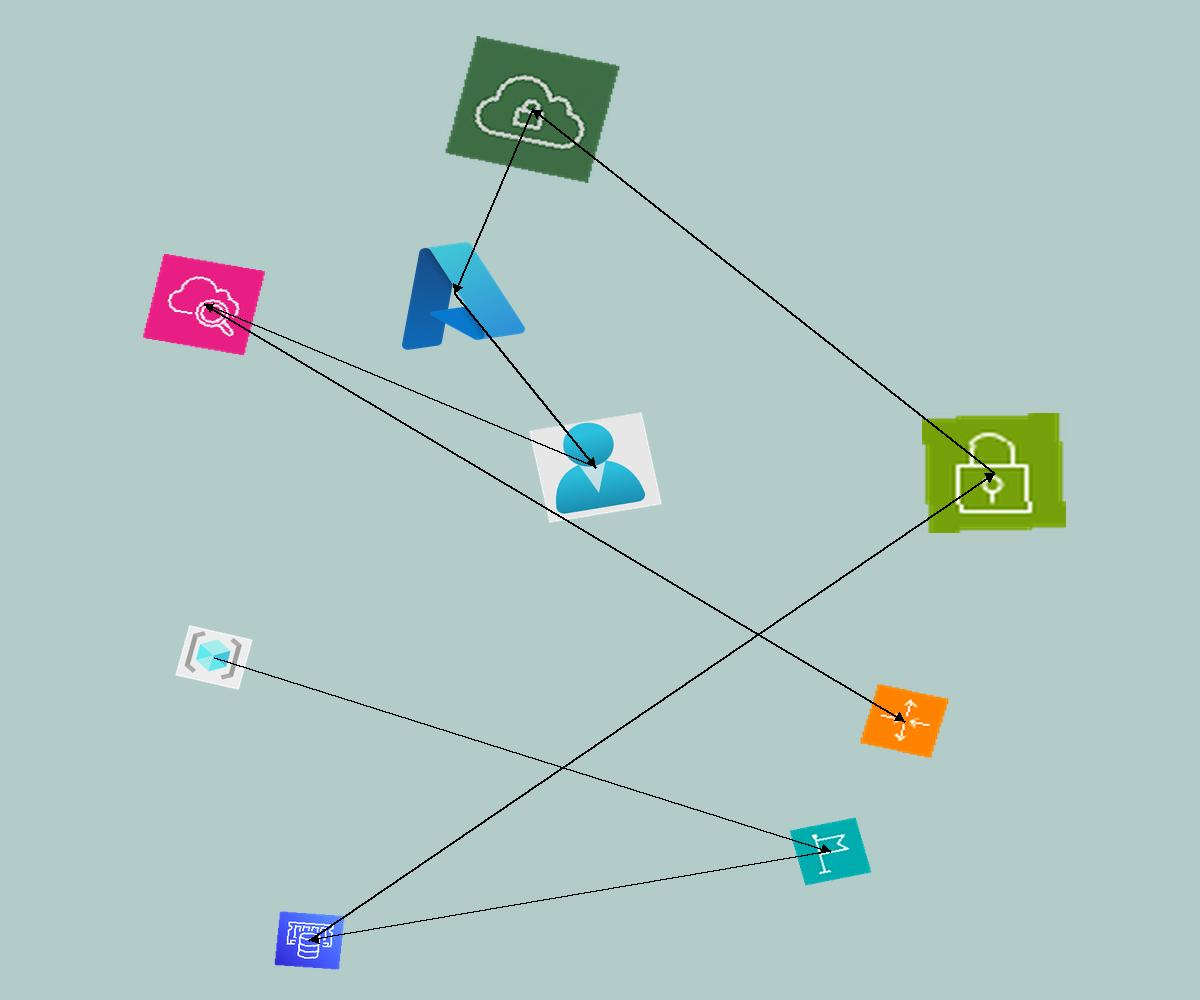AWS-CloudWatch: (142, 253, 266, 356)
AWS-ElastiCache: (274, 911, 345, 970)
AWS-Private_vpc: (444, 36, 621, 183)
AWS-Public-subnet: (922, 413, 1066, 533)
AWS-Region: (789, 817, 872, 886)
AWS-Scaling-group: (859, 683, 950, 759)
Azure_resource_group: (175, 625, 253, 690)
Azure_services: (376, 228, 533, 359)
Azure_users: (529, 412, 662, 523)
